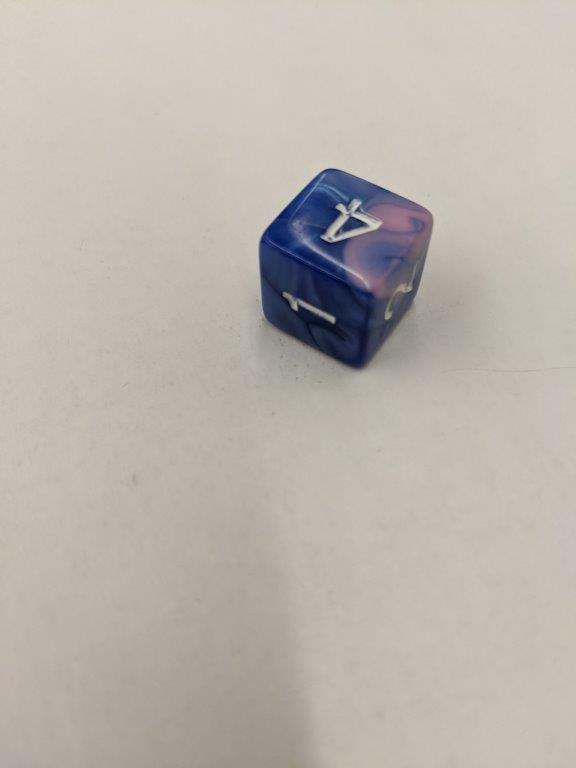d6-4: (256, 166, 434, 371)
